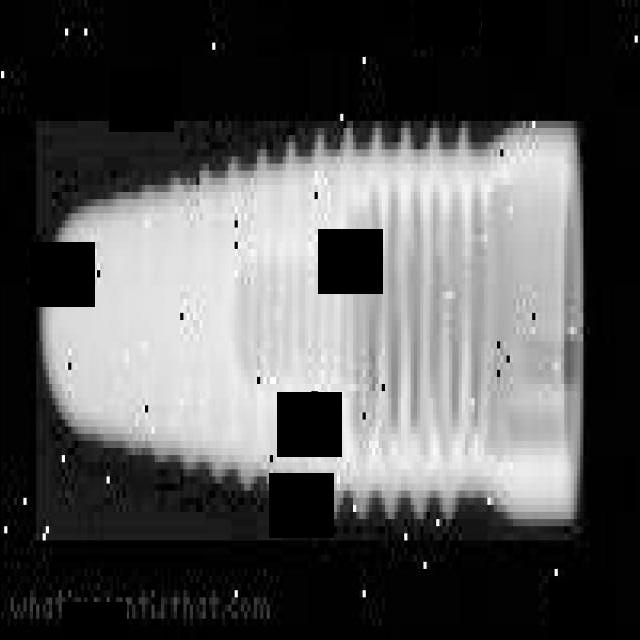Root canal obturation: (27, 119, 590, 546)
